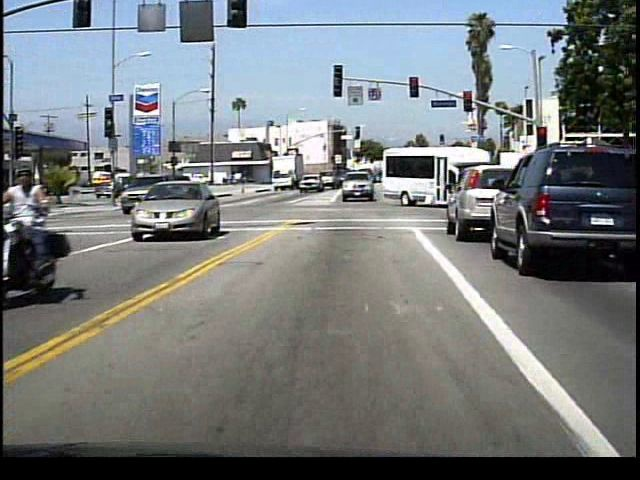person: (13, 155, 86, 294)
